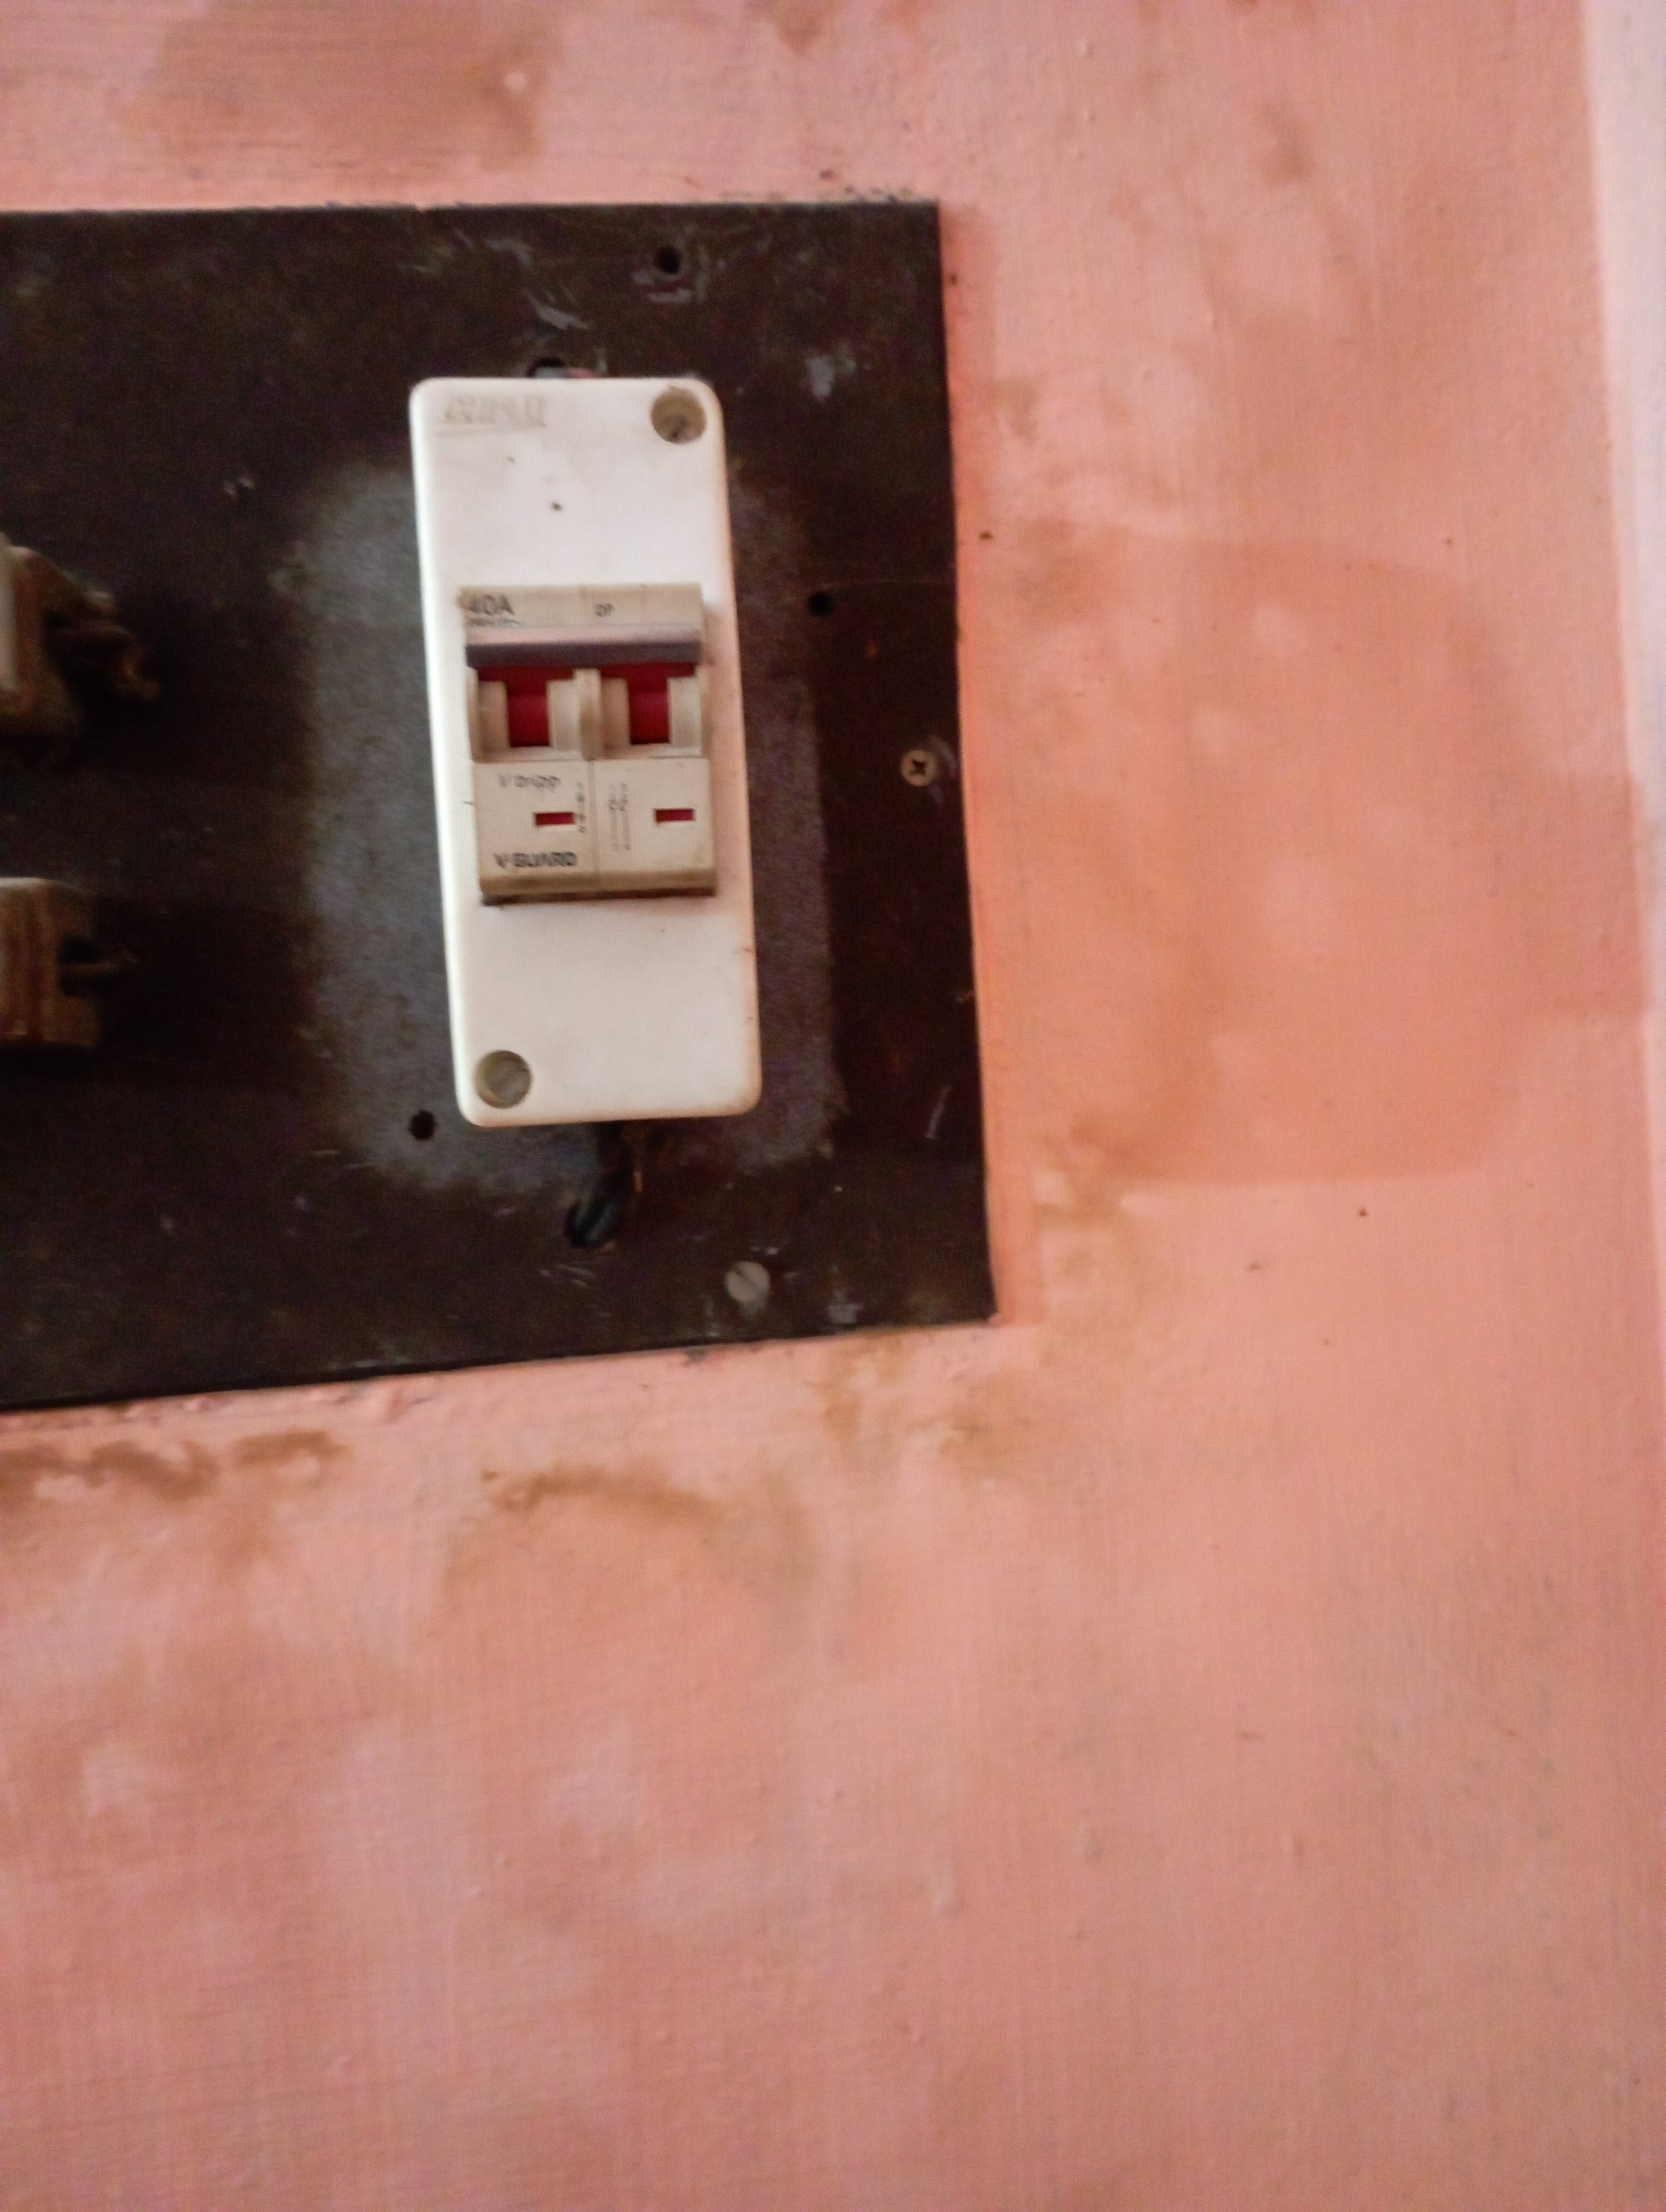ciruit_breaker: (380, 360, 810, 1163)
fuse: (0, 864, 172, 1079), (0, 539, 157, 754)
